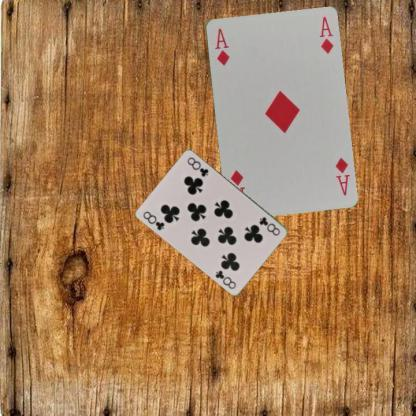8c: (257, 214, 282, 237), (141, 209, 166, 232)
Ad: (212, 26, 231, 66), (332, 154, 350, 196)
